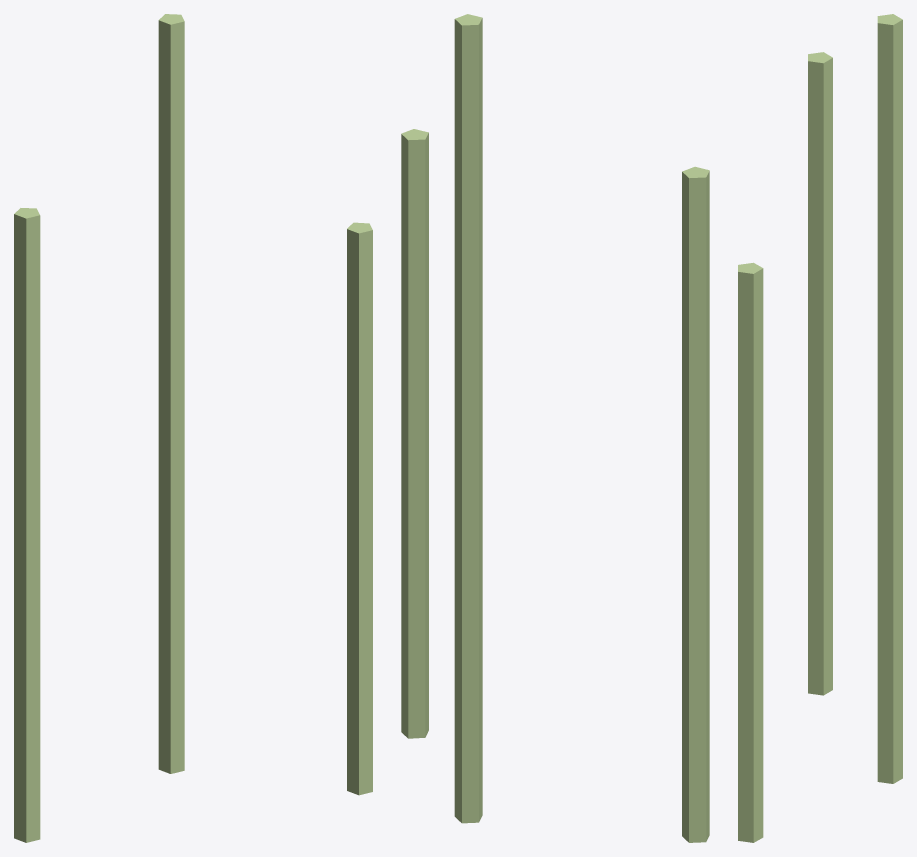
Rendered from dune_grass.glb.
3 renders of one model, left to right at view 1: azimuth 30°, elevation 25°; view 2: azimuth 150°, elevation 25°; view 3: azimuth 270°, elevation 25°, orthographic. The views are drawn at different scales.
Parts seen in each view (by area): view 1: blade2, blade1, blade3; view 2: blade2, blade1, blade3; view 3: blade2, blade1, blade3.
Boxes of the visible parts, box(x1,y1,x2,y2) form: blade2: box(158, 14, 184, 773); blade1: box(14, 208, 40, 842); blade3: box(347, 222, 372, 795); blade2: box(454, 14, 482, 823); blade1: box(682, 166, 709, 842); blade3: box(401, 129, 428, 738); blade2: box(877, 14, 902, 783); blade1: box(808, 52, 832, 695); blade3: box(738, 262, 763, 842).
Bounding box in the file's own units: 0.5381 × 1.2 × 0.2361.
